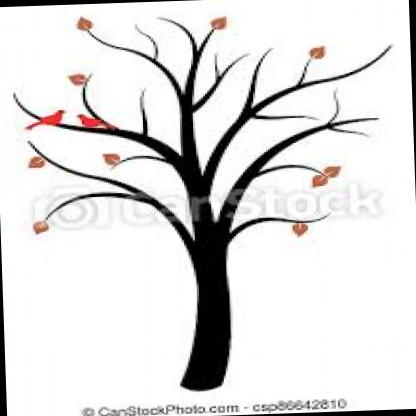trunk_reflex: (184, 252, 234, 366)
